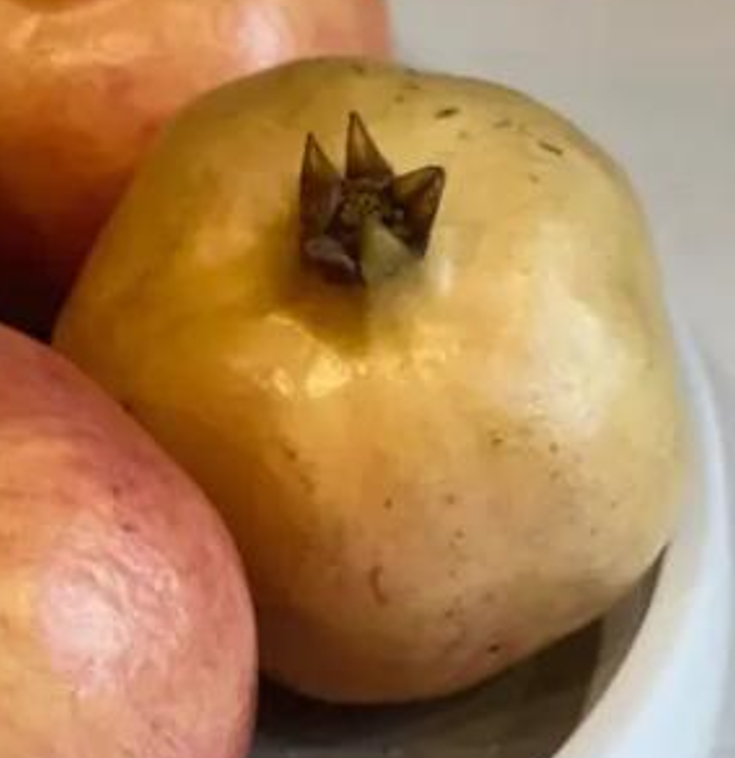pomegranate_B: (49, 55, 682, 705)
